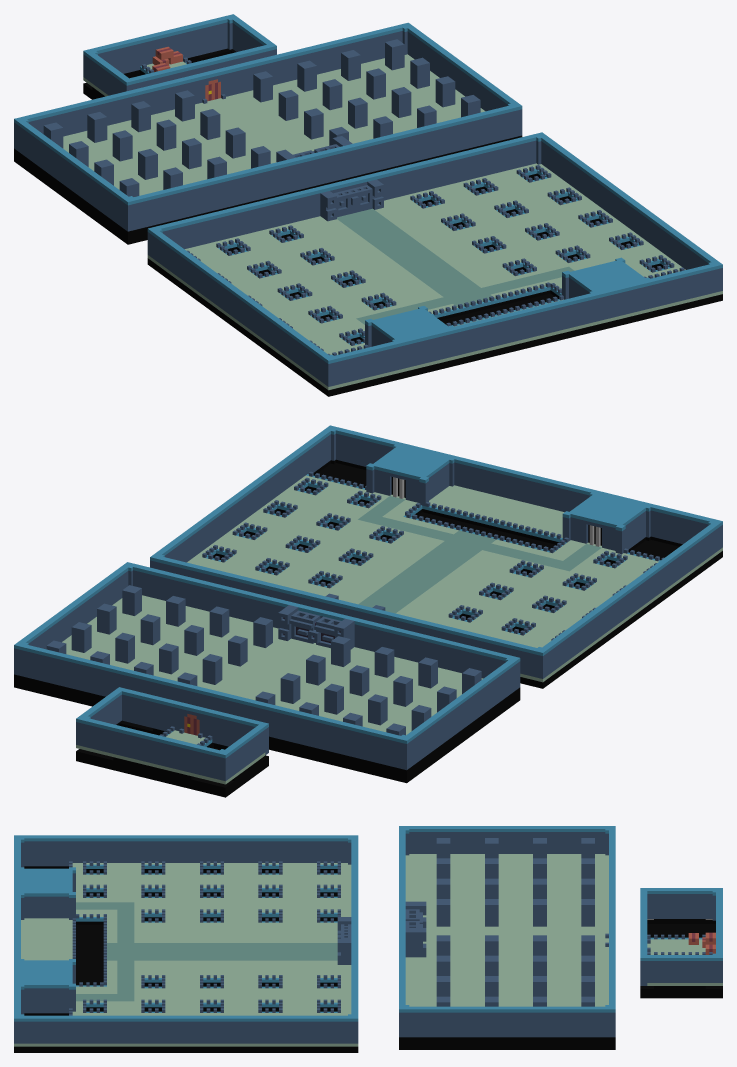
File: planta3.dae
3 views of the same model, one above another, from view 1: azimuth 30°, elevation 25°; view 2: azimuth 150°, elevation 25°; view 3: azimuth 270°, elevation 25° (orthographic). The views are drawn at different scales.
Parts seen in each view (by area): view 1: boss3, hab3_1, hab3_0; view 2: boss3, hab3_1, hab3_0; view 3: boss3, hab3_1, hab3_0.
Boxes of the visible parts, x1=… form: boss3: x1=147, y1=132, x2=722, y2=396; hab3_1: x1=14, y1=22, x2=522, y2=244; hab3_0: x1=83, y1=14, x2=276, y2=99; boss3: x1=150, y1=425, x2=722, y2=688; hab3_1: x1=14, y1=562, x2=520, y2=783; hab3_0: x1=76, y1=687, x2=268, y2=797; boss3: x1=14, y1=835, x2=358, y2=1052; hab3_1: x1=399, y1=826, x2=615, y2=1049; hab3_0: x1=640, y1=888, x2=722, y2=998.
Size of the model in its own units: 126 by 206 by 14.16.
Materials: 1 (1 with a texture image).
